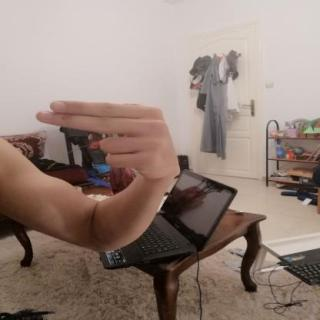AYN: (24, 91, 191, 184)
